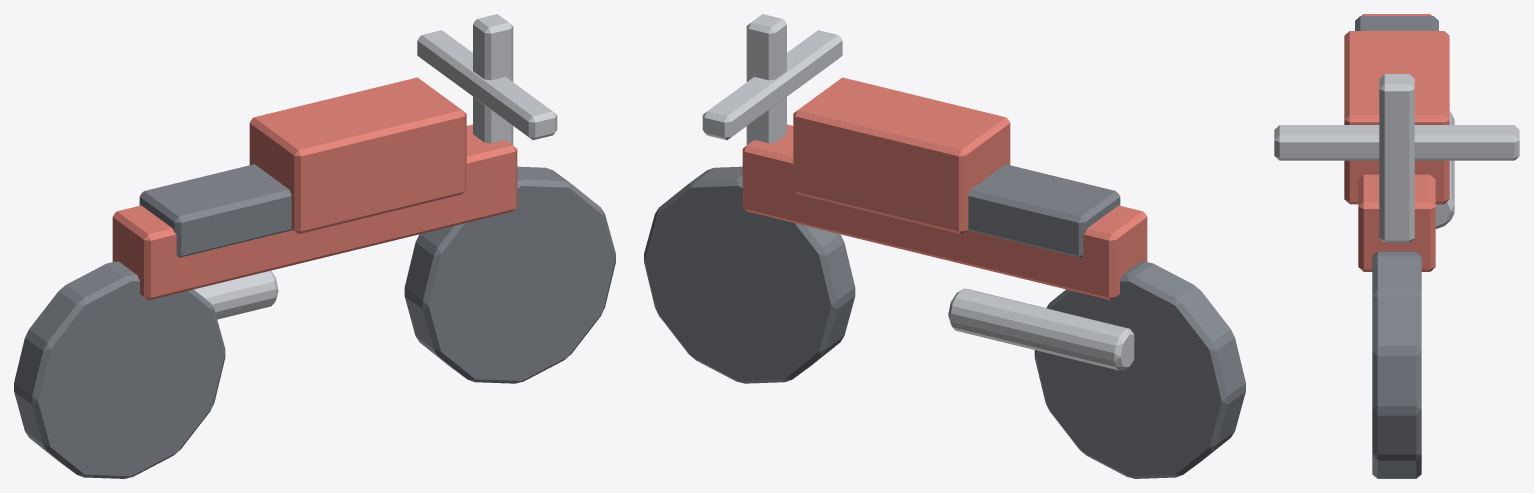
File: 车_摩托车_01.fbx
The picture shows the model from 3 angles, left to right: view 1: azimuth 30°, elevation 25°; view 2: azimuth 150°, elevation 25°; view 3: azimuth 270°, elevation 25°; orthographic projection. The views are drawn at different scales.
Parts seen in each view (by area): view 1: 车轮.016, 车架.001, 座椅, 车把.001, 排气管.001; view 2: 车轮.016, 车架.001, 座椅, 车把.001, 排气管.001; view 3: 车架.001, 车把.001, 车轮.016, 座椅, 排气管.001.
Part boxes in pixels (x1,y1,x2,y2): 车轮.016: (14, 166, 615, 478); 车架.001: (112, 77, 517, 300); 座椅: (139, 164, 292, 257); 车把.001: (417, 14, 557, 144); 排气管.001: (194, 270, 278, 319); 车轮.016: (644, 166, 1245, 478); 车架.001: (742, 77, 1147, 300); 座椅: (967, 164, 1120, 257); 车把.001: (702, 14, 842, 144); 排气管.001: (948, 288, 1134, 370); 车架.001: (1344, 14, 1449, 271); 车把.001: (1274, 74, 1519, 243); 车轮.016: (1372, 251, 1421, 478); 座椅: (1355, 16, 1438, 30); 排气管.001: (1435, 111, 1454, 228).
Size of the model in its own units: 203 by 120 by 70.
